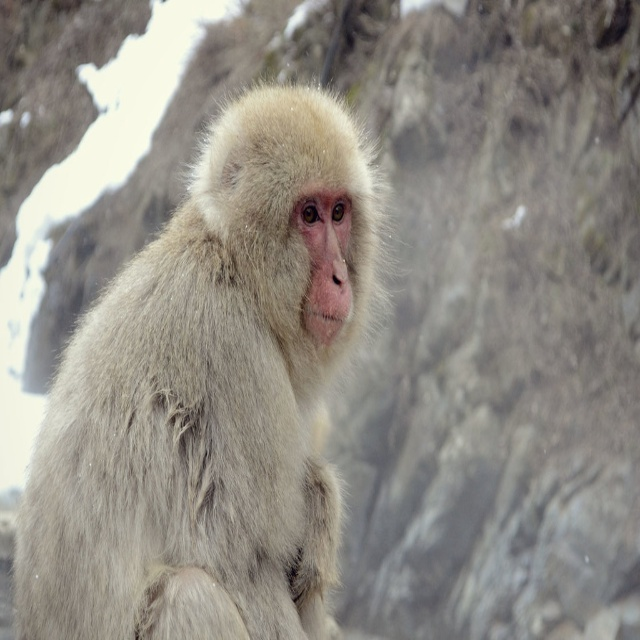Monkey: (12, 76, 349, 639)
